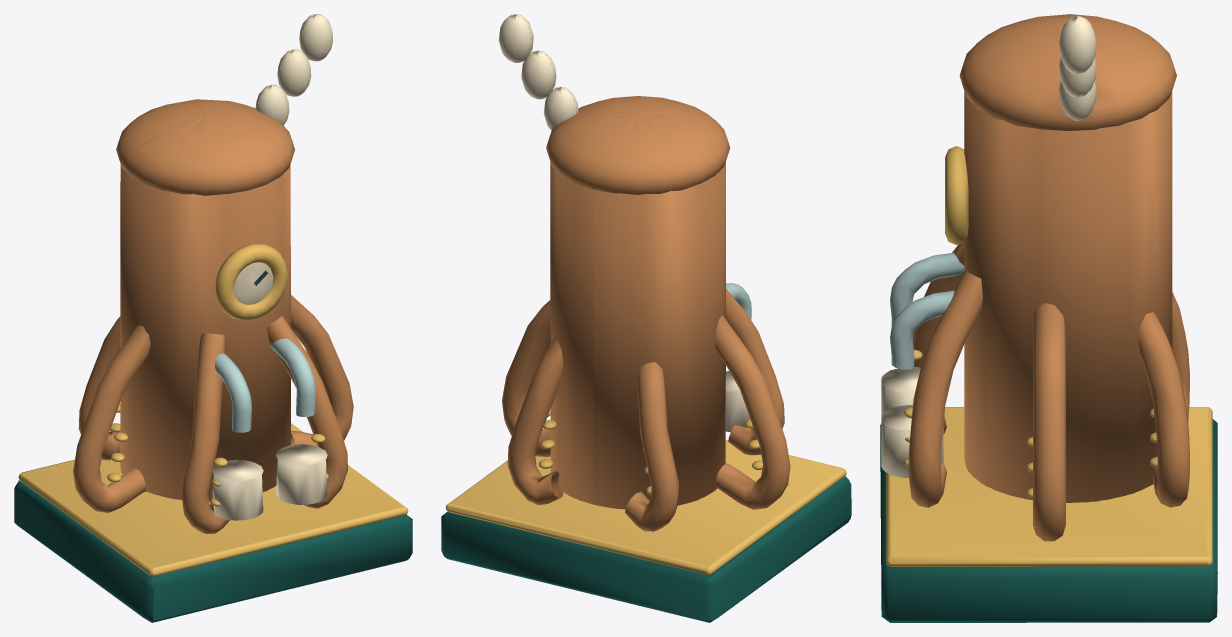
The picture shows the model from 3 angles, left to right: view 1: azimuth 30°, elevation 25°; view 2: azimuth 150°, elevation 25°; view 3: azimuth 270°, elevation 25°; orthographic projection. The views are drawn at different scales.
Visible parts, largest first — view 1: Copper espresso boiler, Brass welt, Jade footing, Gauge, Espresso group, Porcelain vapour.001, Porcelain vapour.002, Porcelain vapour; view 2: Copper espresso boiler, Jade footing, Brass welt, Porcelain vapour.001, Porcelain vapour.002, Porcelain vapour, Gauge; view 3: Copper espresso boiler, Brass welt, Jade footing, Espresso group, Gauge, Porcelain vapour.002, Porcelain vapour.001, Porcelain vapour.
Boxes of the visible parts, box(x1,y1,x2,y2) form: Copper espresso boiler: box(73, 99, 353, 533); Brass welt: box(18, 244, 408, 576); Jade footing: box(14, 480, 412, 622); Gauge: box(212, 262, 327, 520); Espresso group: box(215, 338, 315, 432); Porcelain vapour.001: box(277, 49, 311, 96); Porcelain vapour.002: box(299, 14, 333, 61); Porcelain vapour: box(255, 84, 289, 125); Copper espresso boiler: box(502, 96, 790, 531); Jade footing: box(441, 476, 851, 622); Brass welt: box(445, 410, 846, 575); Porcelain vapour.001: box(521, 50, 556, 99); Porcelain vapour.002: box(498, 14, 533, 62); Porcelain vapour: box(543, 86, 578, 130); Gauge: box(725, 371, 749, 432); Copper espresso boiler: box(908, 14, 1189, 541); Brass welt: box(886, 146, 1212, 566); Jade footing: box(880, 419, 1217, 622); Espresso group: box(890, 252, 964, 369); Gauge: box(881, 366, 943, 477); Porcelain vapour.002: box(1059, 15, 1096, 74); Porcelain vapour.001: box(1059, 57, 1096, 97); Porcelain vapour: box(1059, 81, 1096, 120).
Bounding box in the file's own units: 0.8199 × 1.4 × 0.7144.
